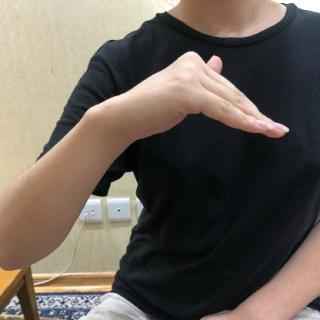KHAA: (86, 48, 293, 164)
